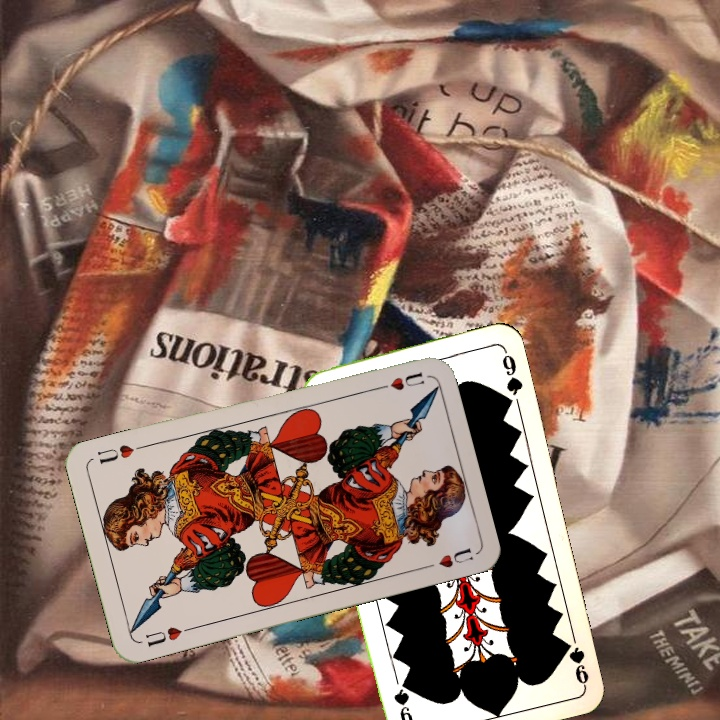G9: (559, 629, 591, 687)
HU: (142, 622, 195, 649), (370, 368, 427, 393)
